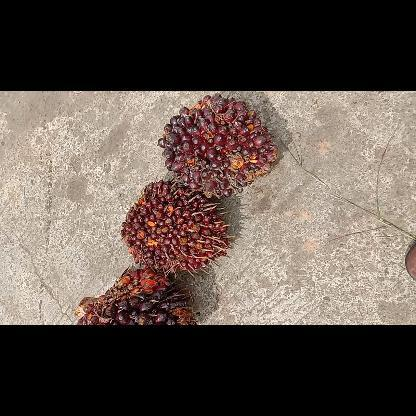Kurang masak: (159, 92, 277, 196), (120, 180, 230, 274)
TBS masak: (76, 268, 194, 324)
